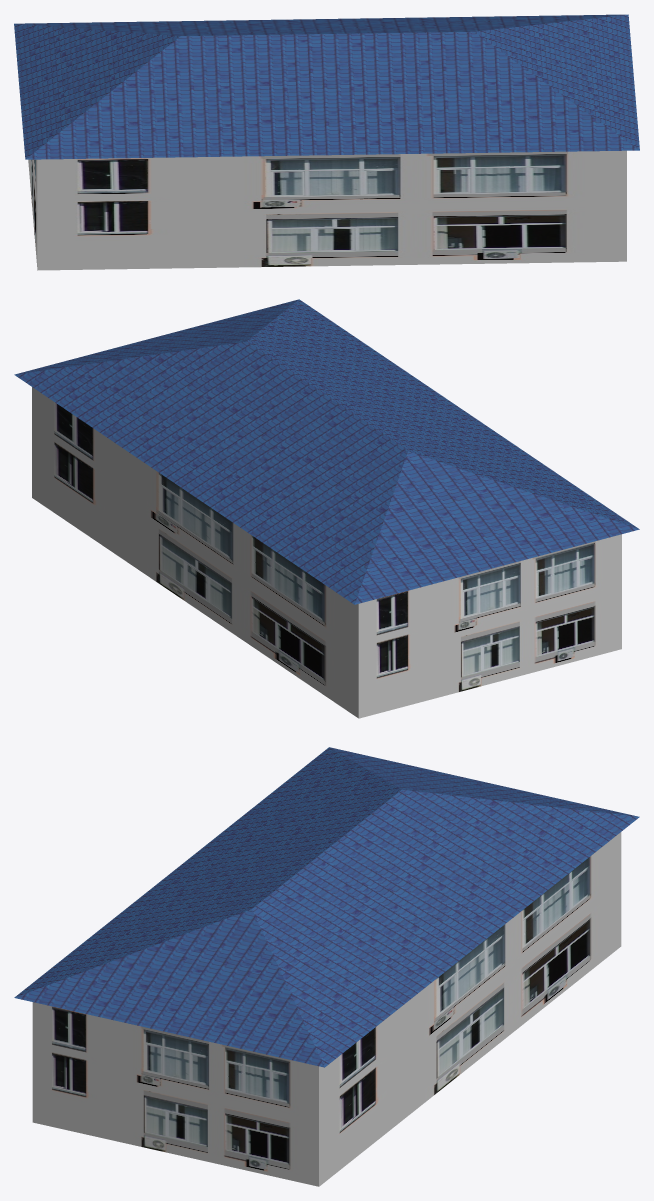
3 views of the same model, one above another, from view 1: azimuth 30°, elevation 25°; view 2: azimuth 150°, elevation 25°; view 3: azimuth 270°, elevation 25° (orthographic). The views are drawn at different scales.
Visible parts, largest first — view 1: CityEngineMaterial_10_m, CityEngineMaterial_9_m; view 2: CityEngineMaterial_10_m, CityEngineMaterial_9_m; view 3: CityEngineMaterial_10_m, CityEngineMaterial_9_m.
Part boxes in pixels (x1,y1,x2,y2): CityEngineMaterial_10_m: (14,14,639,159); CityEngineMaterial_9_m: (28,150,626,270); CityEngineMaterial_10_m: (14,299,639,604); CityEngineMaterial_9_m: (32,387,621,718); CityEngineMaterial_10_m: (14,747,639,1067); CityEngineMaterial_9_m: (32,832,621,1186).
Bounding box in the file's own units: 52.05 × 14.01 × 42.96.
